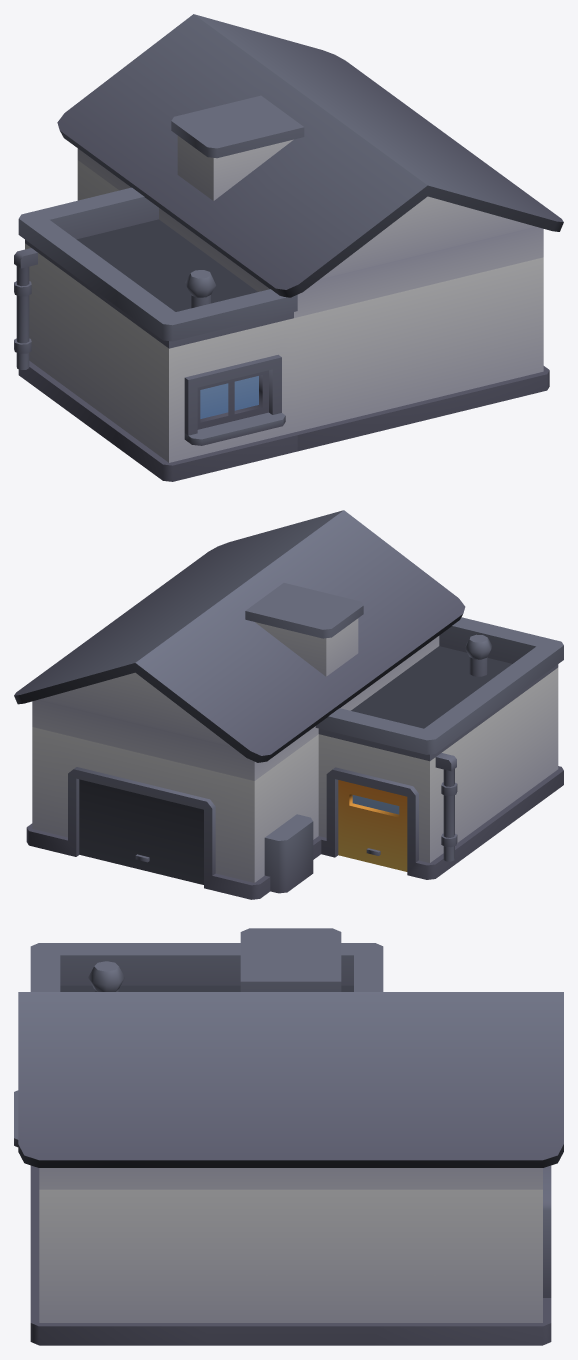
The model's file is industrial-building-h.glb.
The picture shows the model from 3 angles, top to bottom: view 1: azimuth 30°, elevation 25°; view 2: azimuth 150°, elevation 25°; view 3: azimuth 270°, elevation 25°; orthographic projection. The views are drawn at different scales.
Visible parts, largest first — view 1: building-h; view 2: building-h; view 3: building-h.
Boxes of the visible parts, bbox=[...] form: building-h: bbox=[14, 14, 563, 481]; building-h: bbox=[14, 510, 563, 899]; building-h: bbox=[14, 928, 563, 1345].
Bounding box in the file's own units: 1.32 × 0.7335 × 1.31.
